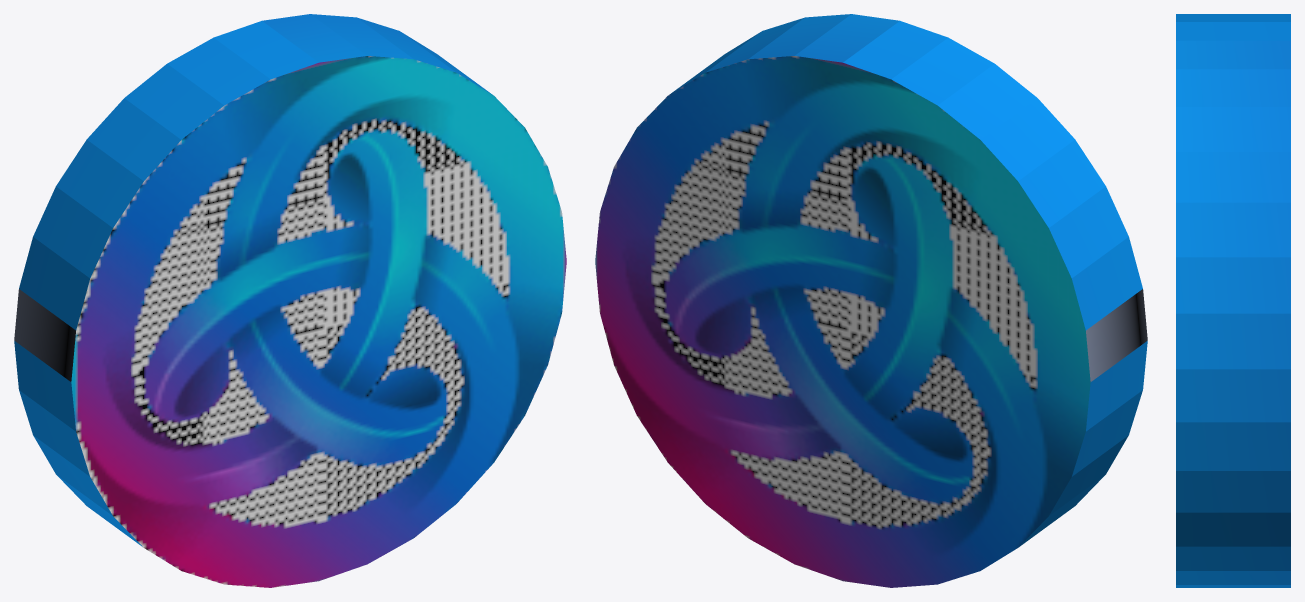
The model's file is item3.gltf.
The picture shows the model from 3 angles, left to right: view 1: azimuth 30°, elevation 25°; view 2: azimuth 150°, elevation 25°; view 3: azimuth 270°, elevation 25°; orthographic projection.
Visible parts, largest first — view 1: Cylinder; view 2: Cylinder; view 3: Cylinder.
Part boxes in pixels (box(x1,y1,x2,y2)): Cylinder: box(14, 14, 566, 587); Cylinder: box(595, 14, 1147, 587); Cylinder: box(1176, 14, 1290, 587).
Size of what is drawn, in the model's own units: 2 by 2 by 0.4.
Materials: 1 (1 with a texture image).
